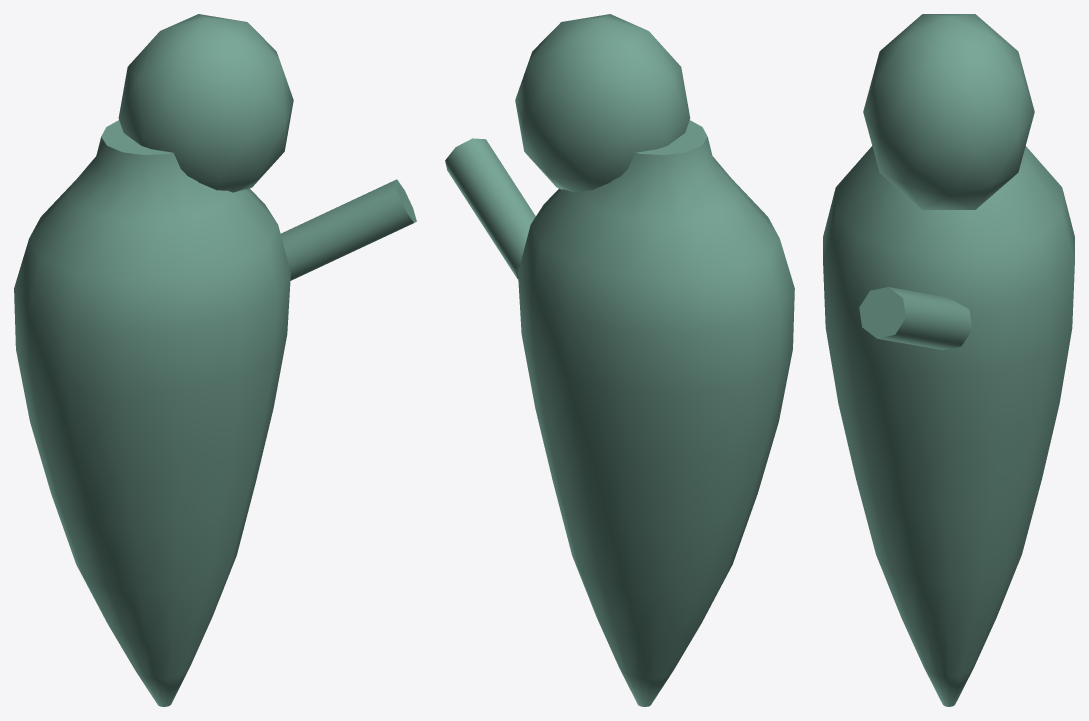
The model's file is haunt_wisp.fbx.
3 renders of one model, left to right at view 1: azimuth 30°, elevation 25°; view 2: azimuth 150°, elevation 25°; view 3: azimuth 270°, elevation 25°, orthographic. The views are drawn at different scales.
Parts seen in each view (by area): view 1: ghost_1; view 2: ghost_1; view 3: ghost_1.
Part boxes in pixels (left/top/right/bottom): ghost_1: left=14, top=14, right=416, bottom=706; ghost_1: left=445, top=14, right=794, bottom=706; ghost_1: left=823, top=14, right=1074, bottom=706.
Size of the model in its own units: 0.246 by 0.4424 by 0.1425.
